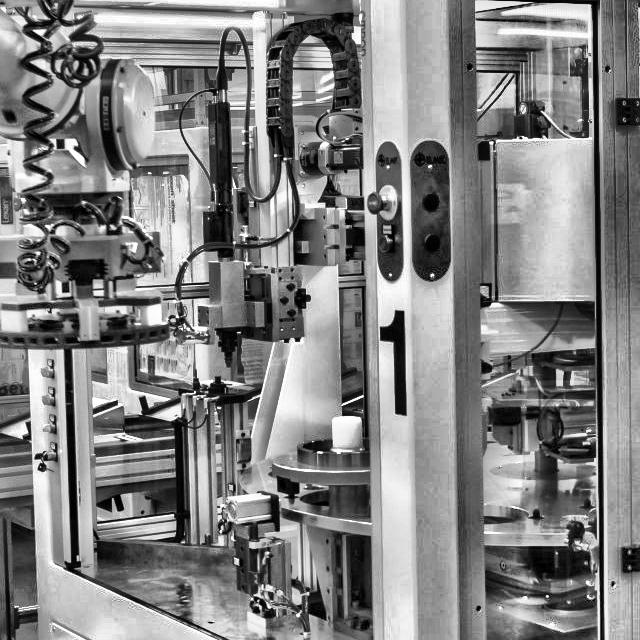robot: (0, 0, 235, 640)
